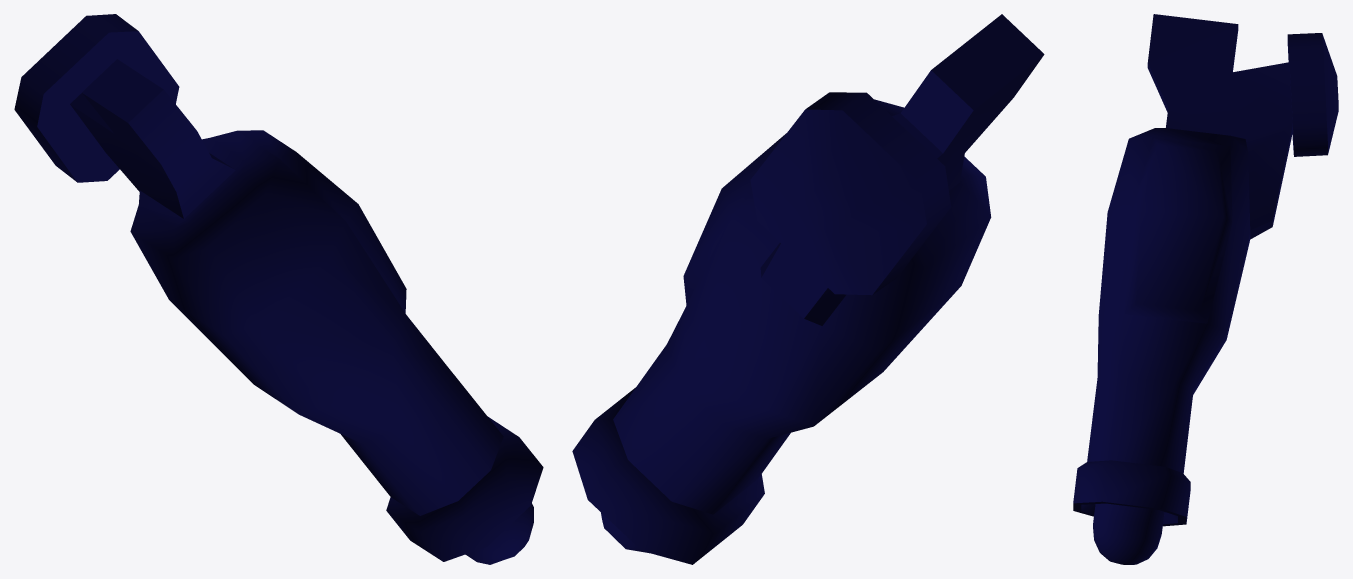
Rendered from right_down_arm.obj.
3 renders of one model, left to right at view 1: azimuth 30°, elevation 25°; view 2: azimuth 150°, elevation 25°; view 3: azimuth 270°, elevation 25°, orthographic. The views are drawn at different scales.
Parts seen in each view (by area): view 1: right_front_arm; view 2: right_front_arm; view 3: right_front_arm.
Part boxes in pixels (x1,y1,x2,y2): right_front_arm: (14,14,543,564); right_front_arm: (572,14,1044,564); right_front_arm: (1073,14,1338,564).
Bounding box in the file's own units: 1.13 × 1.45 × 0.8193.
